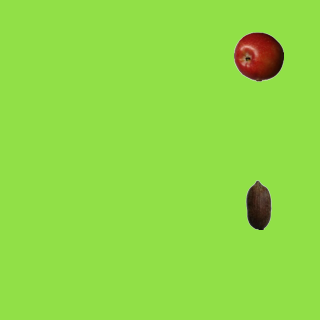Apple Braeburn: (233, 31, 283, 81)
Nut Pecan: (233, 179, 283, 229)
